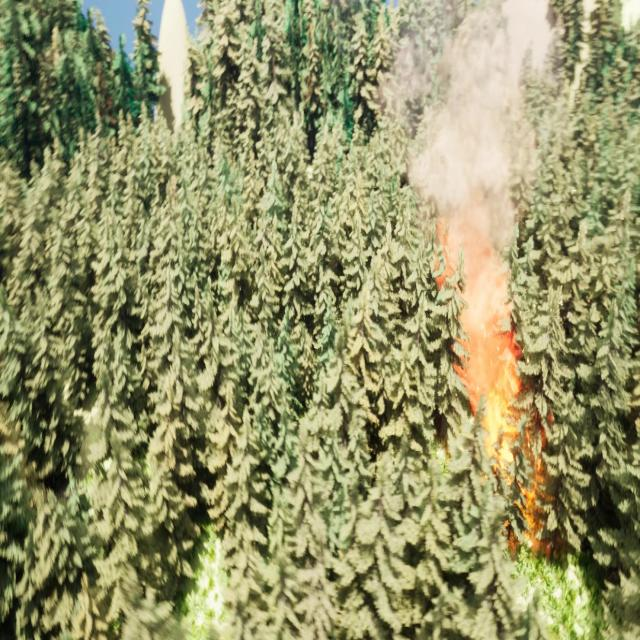fire: (463, 315, 559, 550)
smoke: (384, 0, 556, 320)
